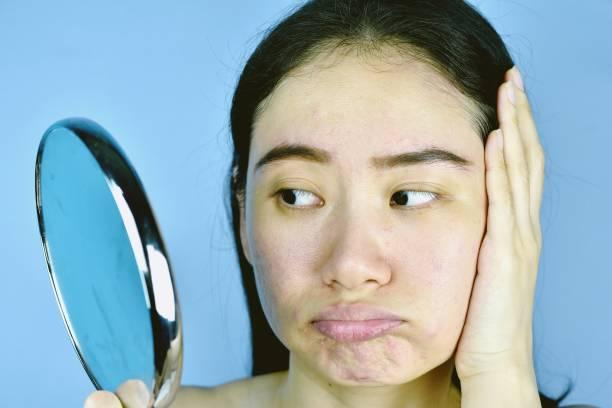Dry-Skin: (304, 95, 417, 149), (402, 218, 470, 303), (258, 220, 314, 308)
